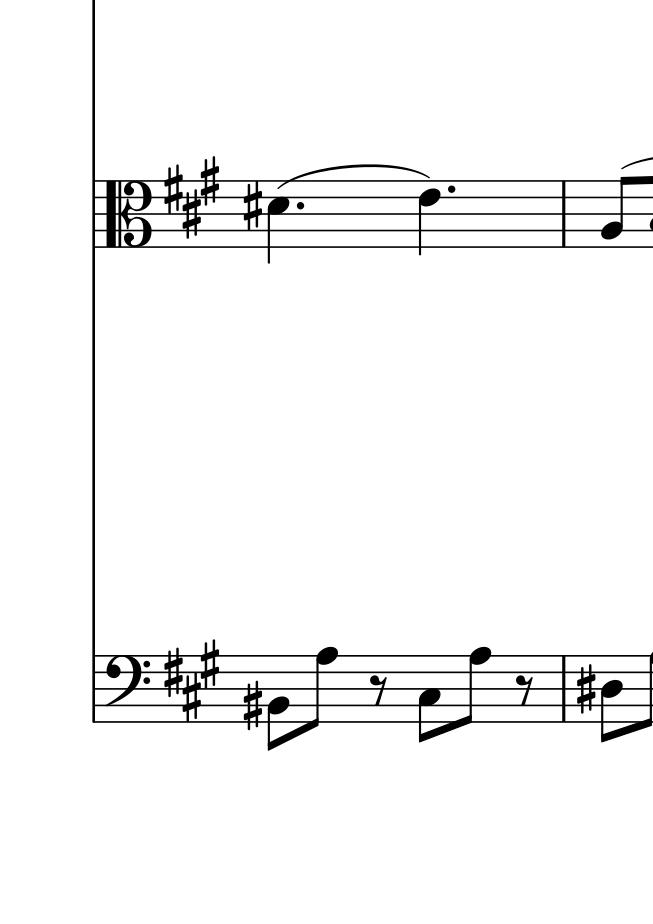4_5: (266, 179, 291, 263)
4_6: (417, 178, 442, 257)
8_2: (264, 653, 292, 753), (599, 174, 634, 249), (416, 653, 444, 744)
8_4: (598, 653, 624, 744)
8_8: (296, 644, 340, 733), (455, 644, 493, 726)
Cclef: (101, 180, 156, 248)
Fclef: (103, 655, 151, 724)
Rests8: (367, 674, 388, 708), (515, 674, 534, 708)
Sharp: (242, 179, 265, 233), (574, 662, 597, 715), (241, 679, 262, 731)
Single_barline: (555, 180, 571, 246), (88, 179, 103, 249), (556, 657, 572, 722), (87, 656, 102, 722)
Slur: (276, 164, 434, 189)
dot: (295, 199, 305, 212), (447, 183, 457, 195)
